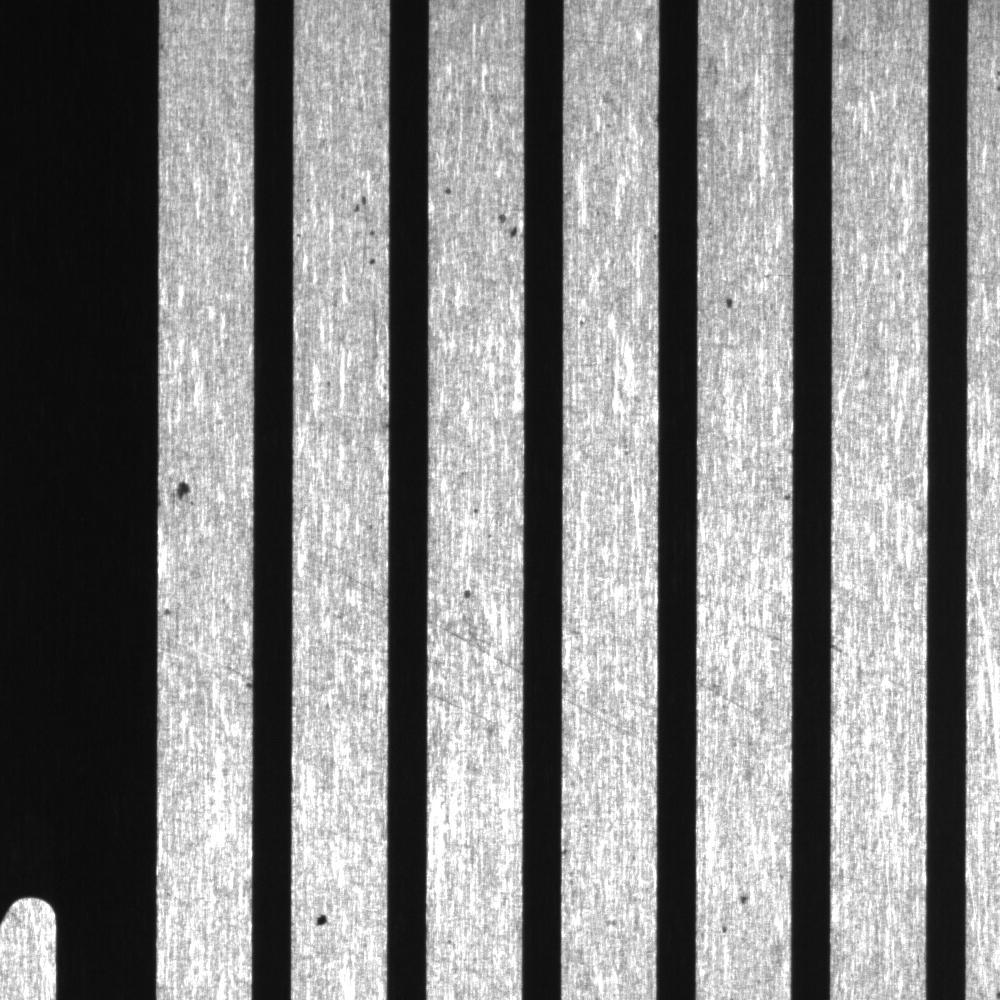Etching: (335, 176, 383, 285), (167, 457, 215, 516), (484, 196, 522, 248), (713, 282, 745, 325), (727, 883, 760, 911), (711, 918, 734, 944)
Pinhole: (309, 899, 341, 946), (437, 174, 464, 205), (451, 581, 478, 606)
Scar: (298, 537, 386, 616), (428, 615, 522, 679), (561, 691, 656, 748), (703, 664, 769, 734)
